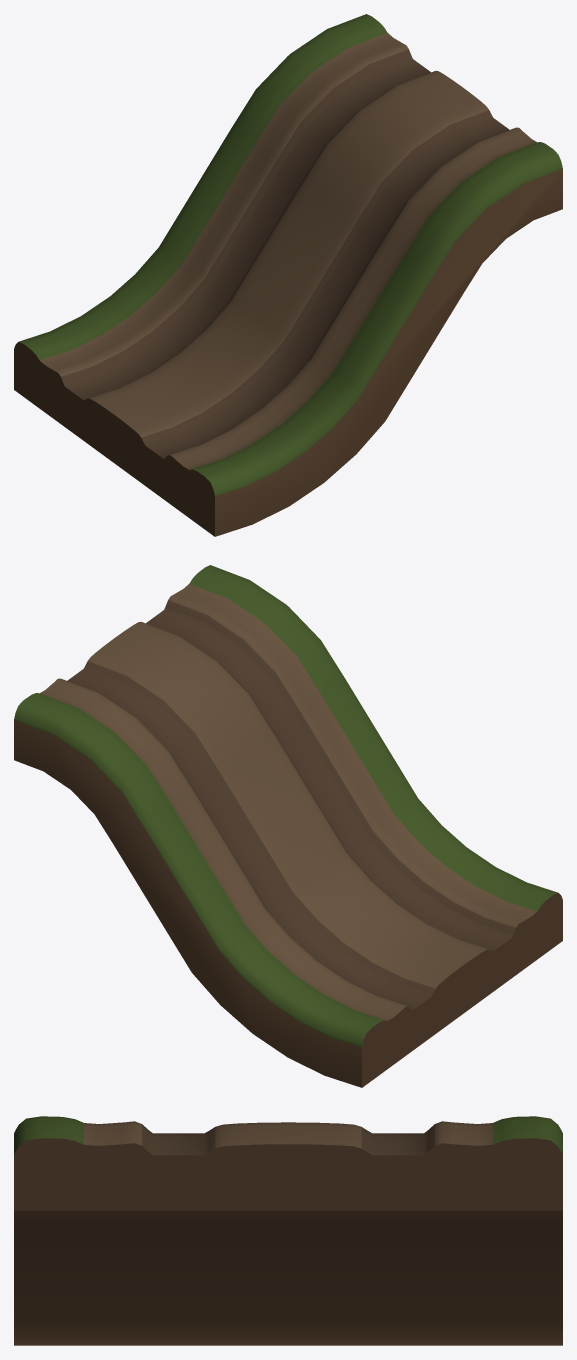
3 views of the same model, one above another, from view 1: azimuth 30°, elevation 25°; view 2: azimuth 150°, elevation 25°; view 3: azimuth 270°, elevation 25° (orthographic). The views are drawn at different scales.
Parts seen in each view (by area): view 1: c3o; view 2: c3o; view 3: c3o.
Boxes of the visible parts, bbox=[...] form: c3o: bbox=[14, 14, 562, 536]; c3o: bbox=[14, 565, 562, 1087]; c3o: bbox=[14, 1116, 562, 1345].
Bounding box in the file's own units: 9 × 7.31 × 9.
